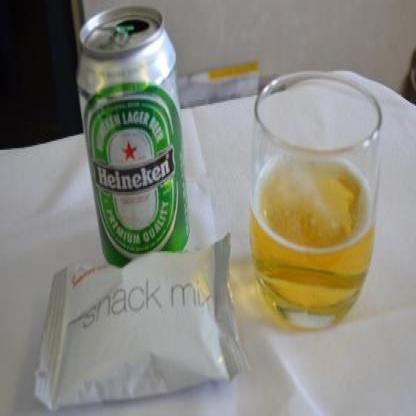alumunium_can: (78, 5, 191, 268)
objects: (247, 74, 384, 327)
